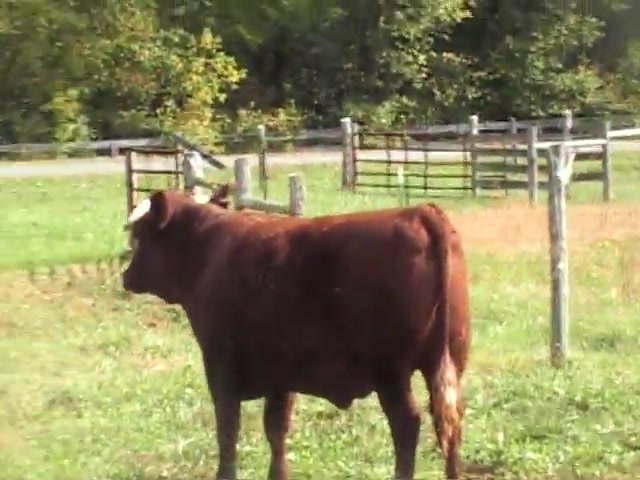cow: (122, 185, 475, 480)
